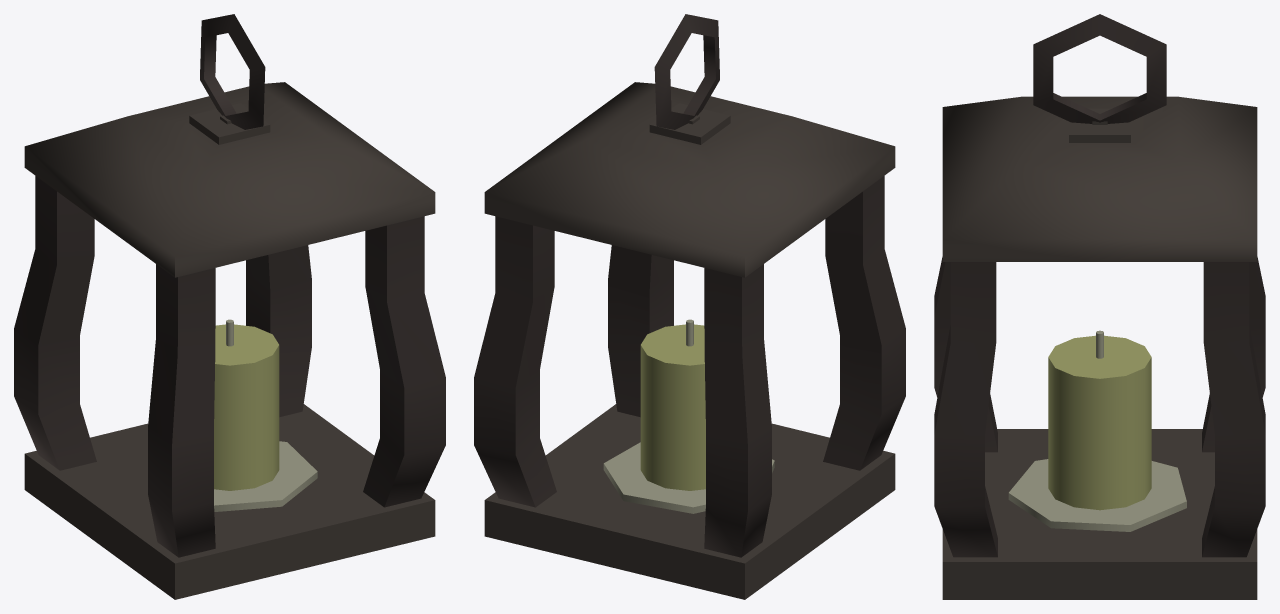
File: Lamp.FBX
The picture shows the model from 3 angles, left to right: view 1: azimuth 30°, elevation 25°; view 2: azimuth 150°, elevation 25°; view 3: azimuth 270°, elevation 25°; orthographic projection. The views are drawn at different scales.
Parts seen in each view (by area): view 1: Lamp, Cylindeandle, candleBase; view 2: Lamp, Cylindeandle, candleBase; view 3: Lamp, Cylindeandle, candleBase.
Boxes of the visible parts, box(x1,y1,x2,y2) form: Lamp: box(14, 14, 445, 599); Cylindeandle: box(214, 324, 279, 490); candleBase: box(214, 441, 317, 511); Lamp: box(474, 14, 905, 599); Cylindeandle: box(640, 324, 705, 490); candleBase: box(603, 442, 774, 513); Lamp: box(934, 14, 1265, 599); Cylindeandle: box(1048, 335, 1151, 510); candleBase: box(1008, 459, 1186, 531).
Size of the model in its own units: 12.36 by 21.49 by 12.36.
